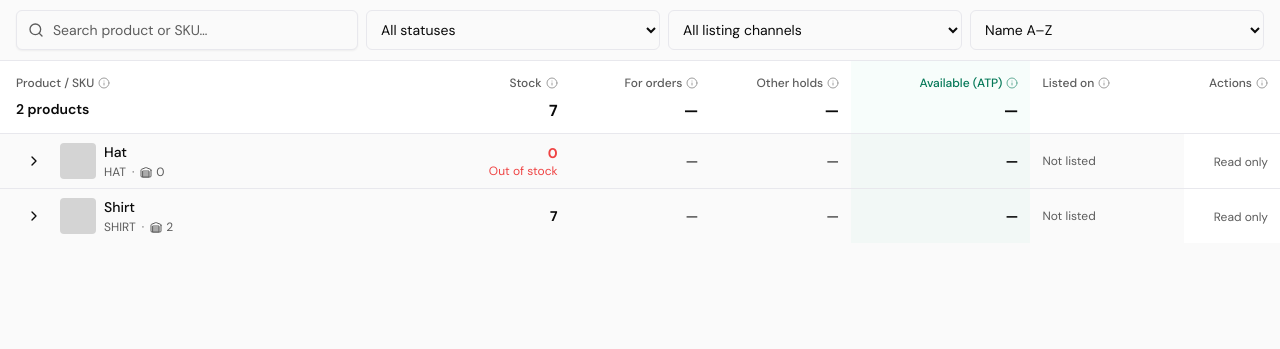
warehouse table › toggles details from row cells, the product name, arrow and keyboard without double toggling
Click the text "7" below "Out of stock".
click(554, 216)  # box [550,206,558,226]
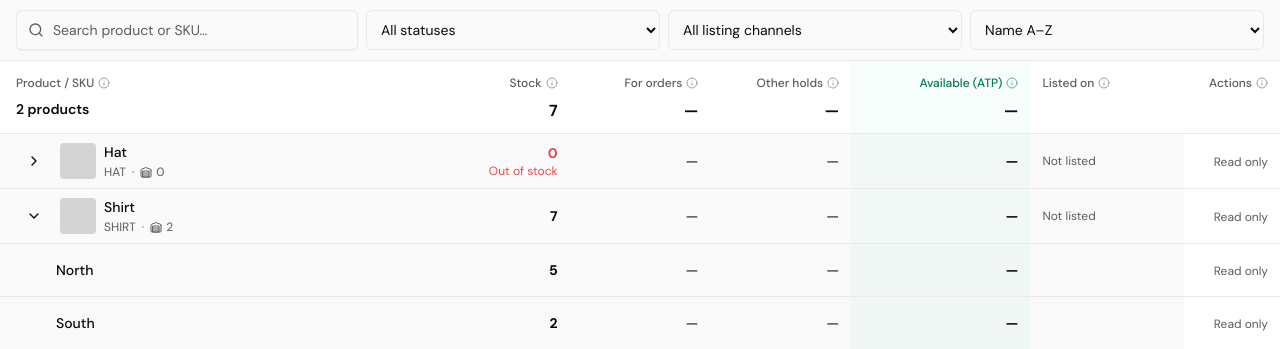
Check: the row "Shirt" is expanded, box [0,188,1279,244]
Check: the text "South" is shown, box [56,314,95,332]
Click the button "Shirt".
click(120, 207)  # box [104,197,135,217]
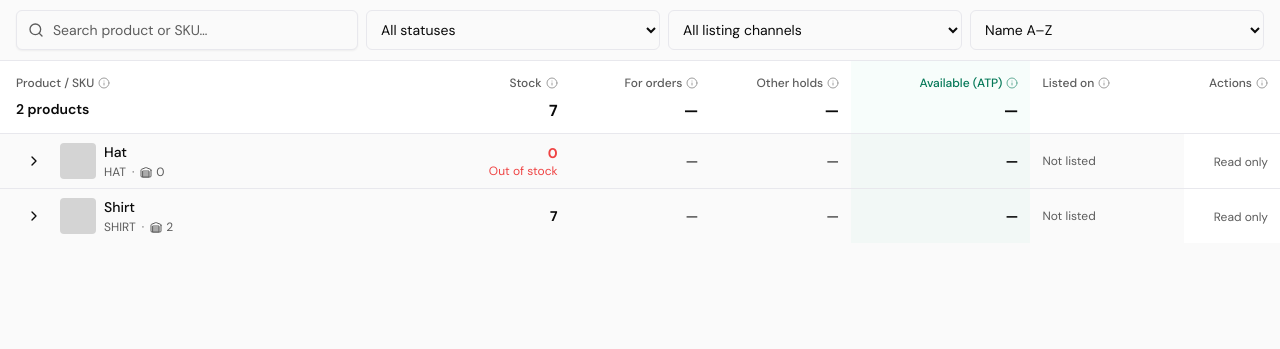
Check: the row "Shirt" is collapsed, box [0,188,1279,243]
Click the button named "Expand Shirt".
click(34, 216)  # box [16,198,52,234]
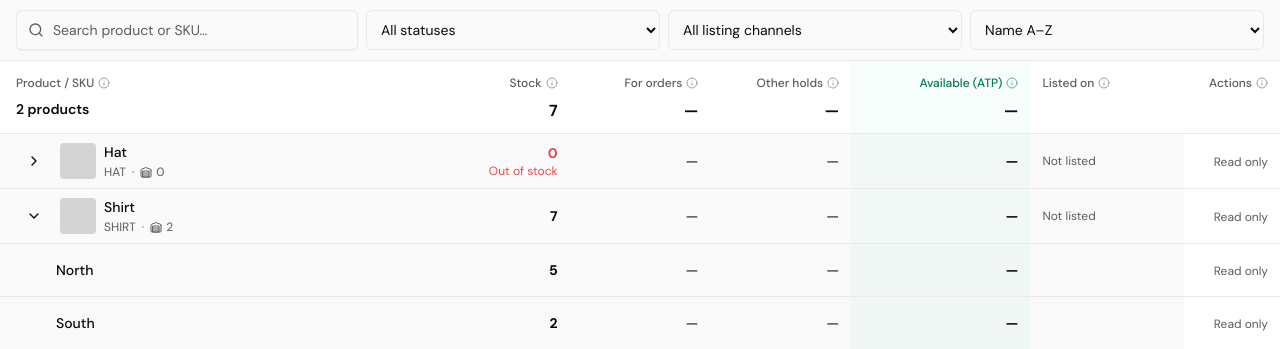
Check: the row "Shirt" is expanded
Press Enter in the row "Shirt", box [0,188,1279,244]
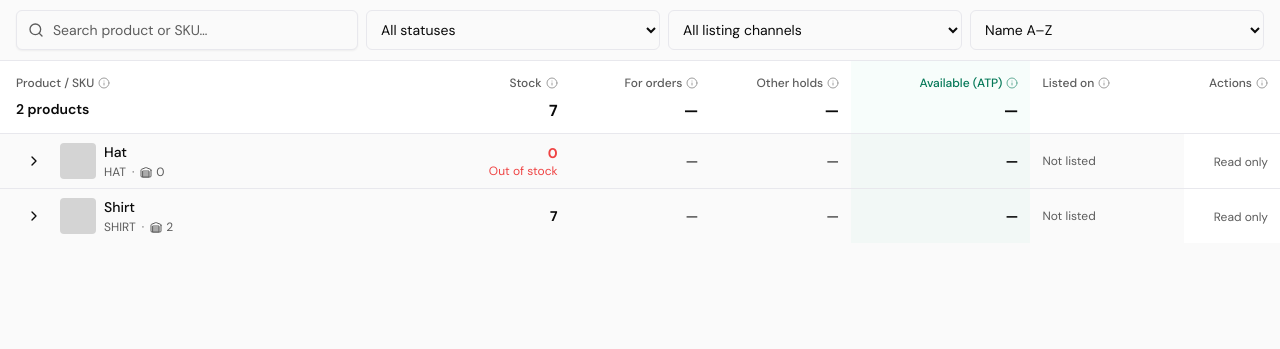
Check: the row "Shirt" is collapsed
Press Space in the row "Shirt", box [0,188,1279,243]
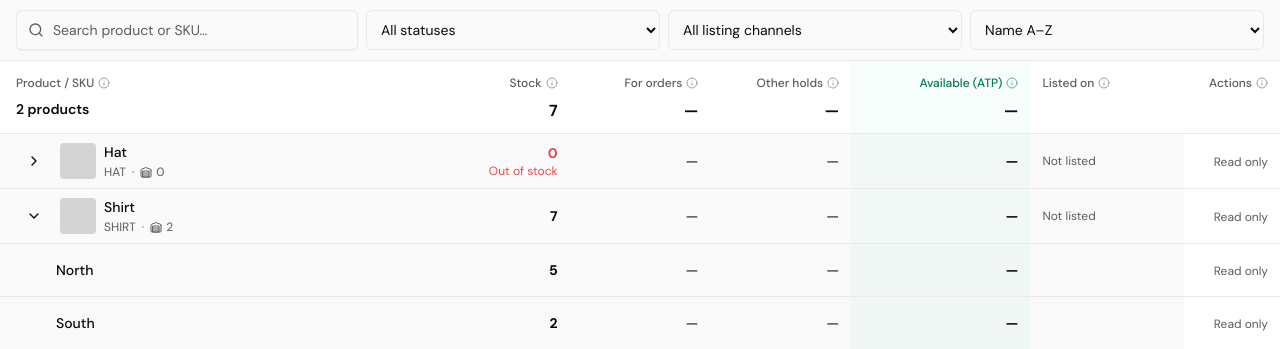
Check: the row "Shirt" is expanded, box [0,188,1279,244]
